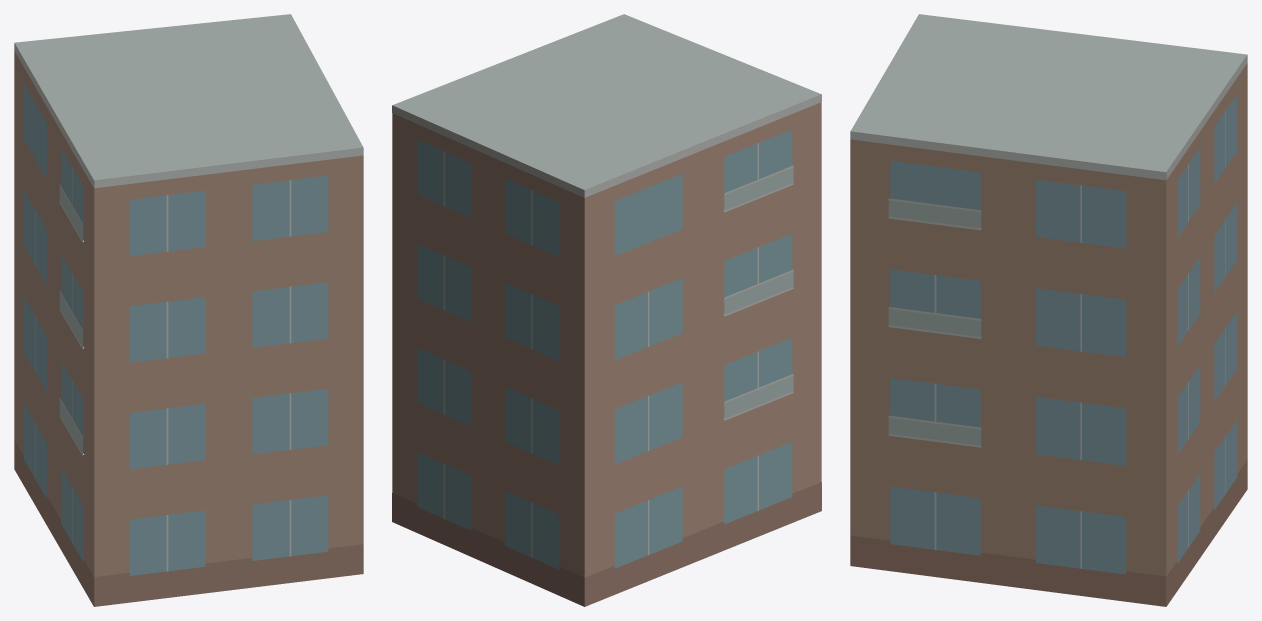
The model's file is survey-upis-33014614.glb.
3 views of the same model, side by side, from view 1: azimuth 30°, elevation 25°; view 2: azimuth 150°, elevation 25°; view 3: azimuth 270°, elevation 25° (orthographic). The views are drawn at different scales.
Parts seen in each view (by area): view 1: survey-upis-33014614.tmp; view 2: survey-upis-33014614.tmp; view 3: survey-upis-33014614.tmp.
Boxes of the visible parts, box(x1,y1,x2,y2) form: survey-upis-33014614.tmp: box(14, 14, 363, 606); survey-upis-33014614.tmp: box(392, 14, 821, 606); survey-upis-33014614.tmp: box(850, 14, 1247, 606).
Size of the model in its own units: 10.32 by 13.2 by 10.94.
